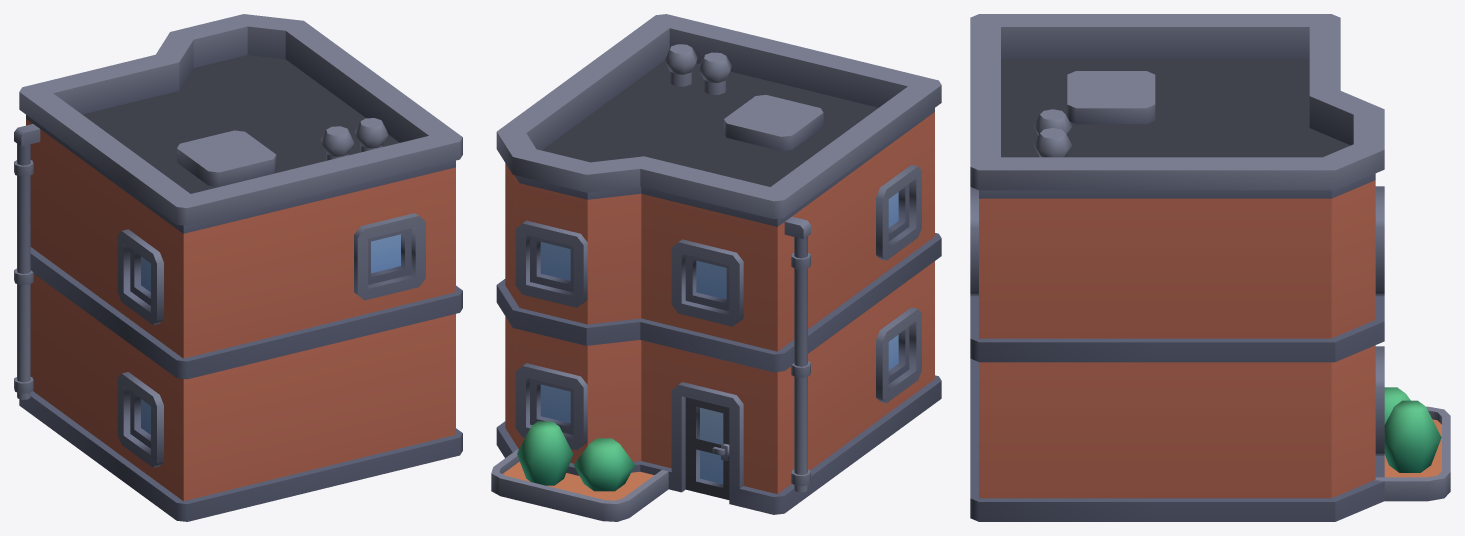
Rendered from building-c-b.glb.
3 renders of one model, left to right at view 1: azimuth 30°, elevation 25°; view 2: azimuth 150°, elevation 25°; view 3: azimuth 270°, elevation 25°, orthographic. The views are drawn at different scales.
Visible parts, largest first — view 1: building-c; view 2: building-c; view 3: building-c.
Boxes of the visible parts, bbox=[...] form: building-c: bbox=[14, 14, 462, 521]; building-c: bbox=[491, 14, 941, 521]; building-c: bbox=[970, 14, 1450, 521].
Size of the model in its own units: 0.8836 by 0.893 by 1.09.
1 material, 1 textured.
